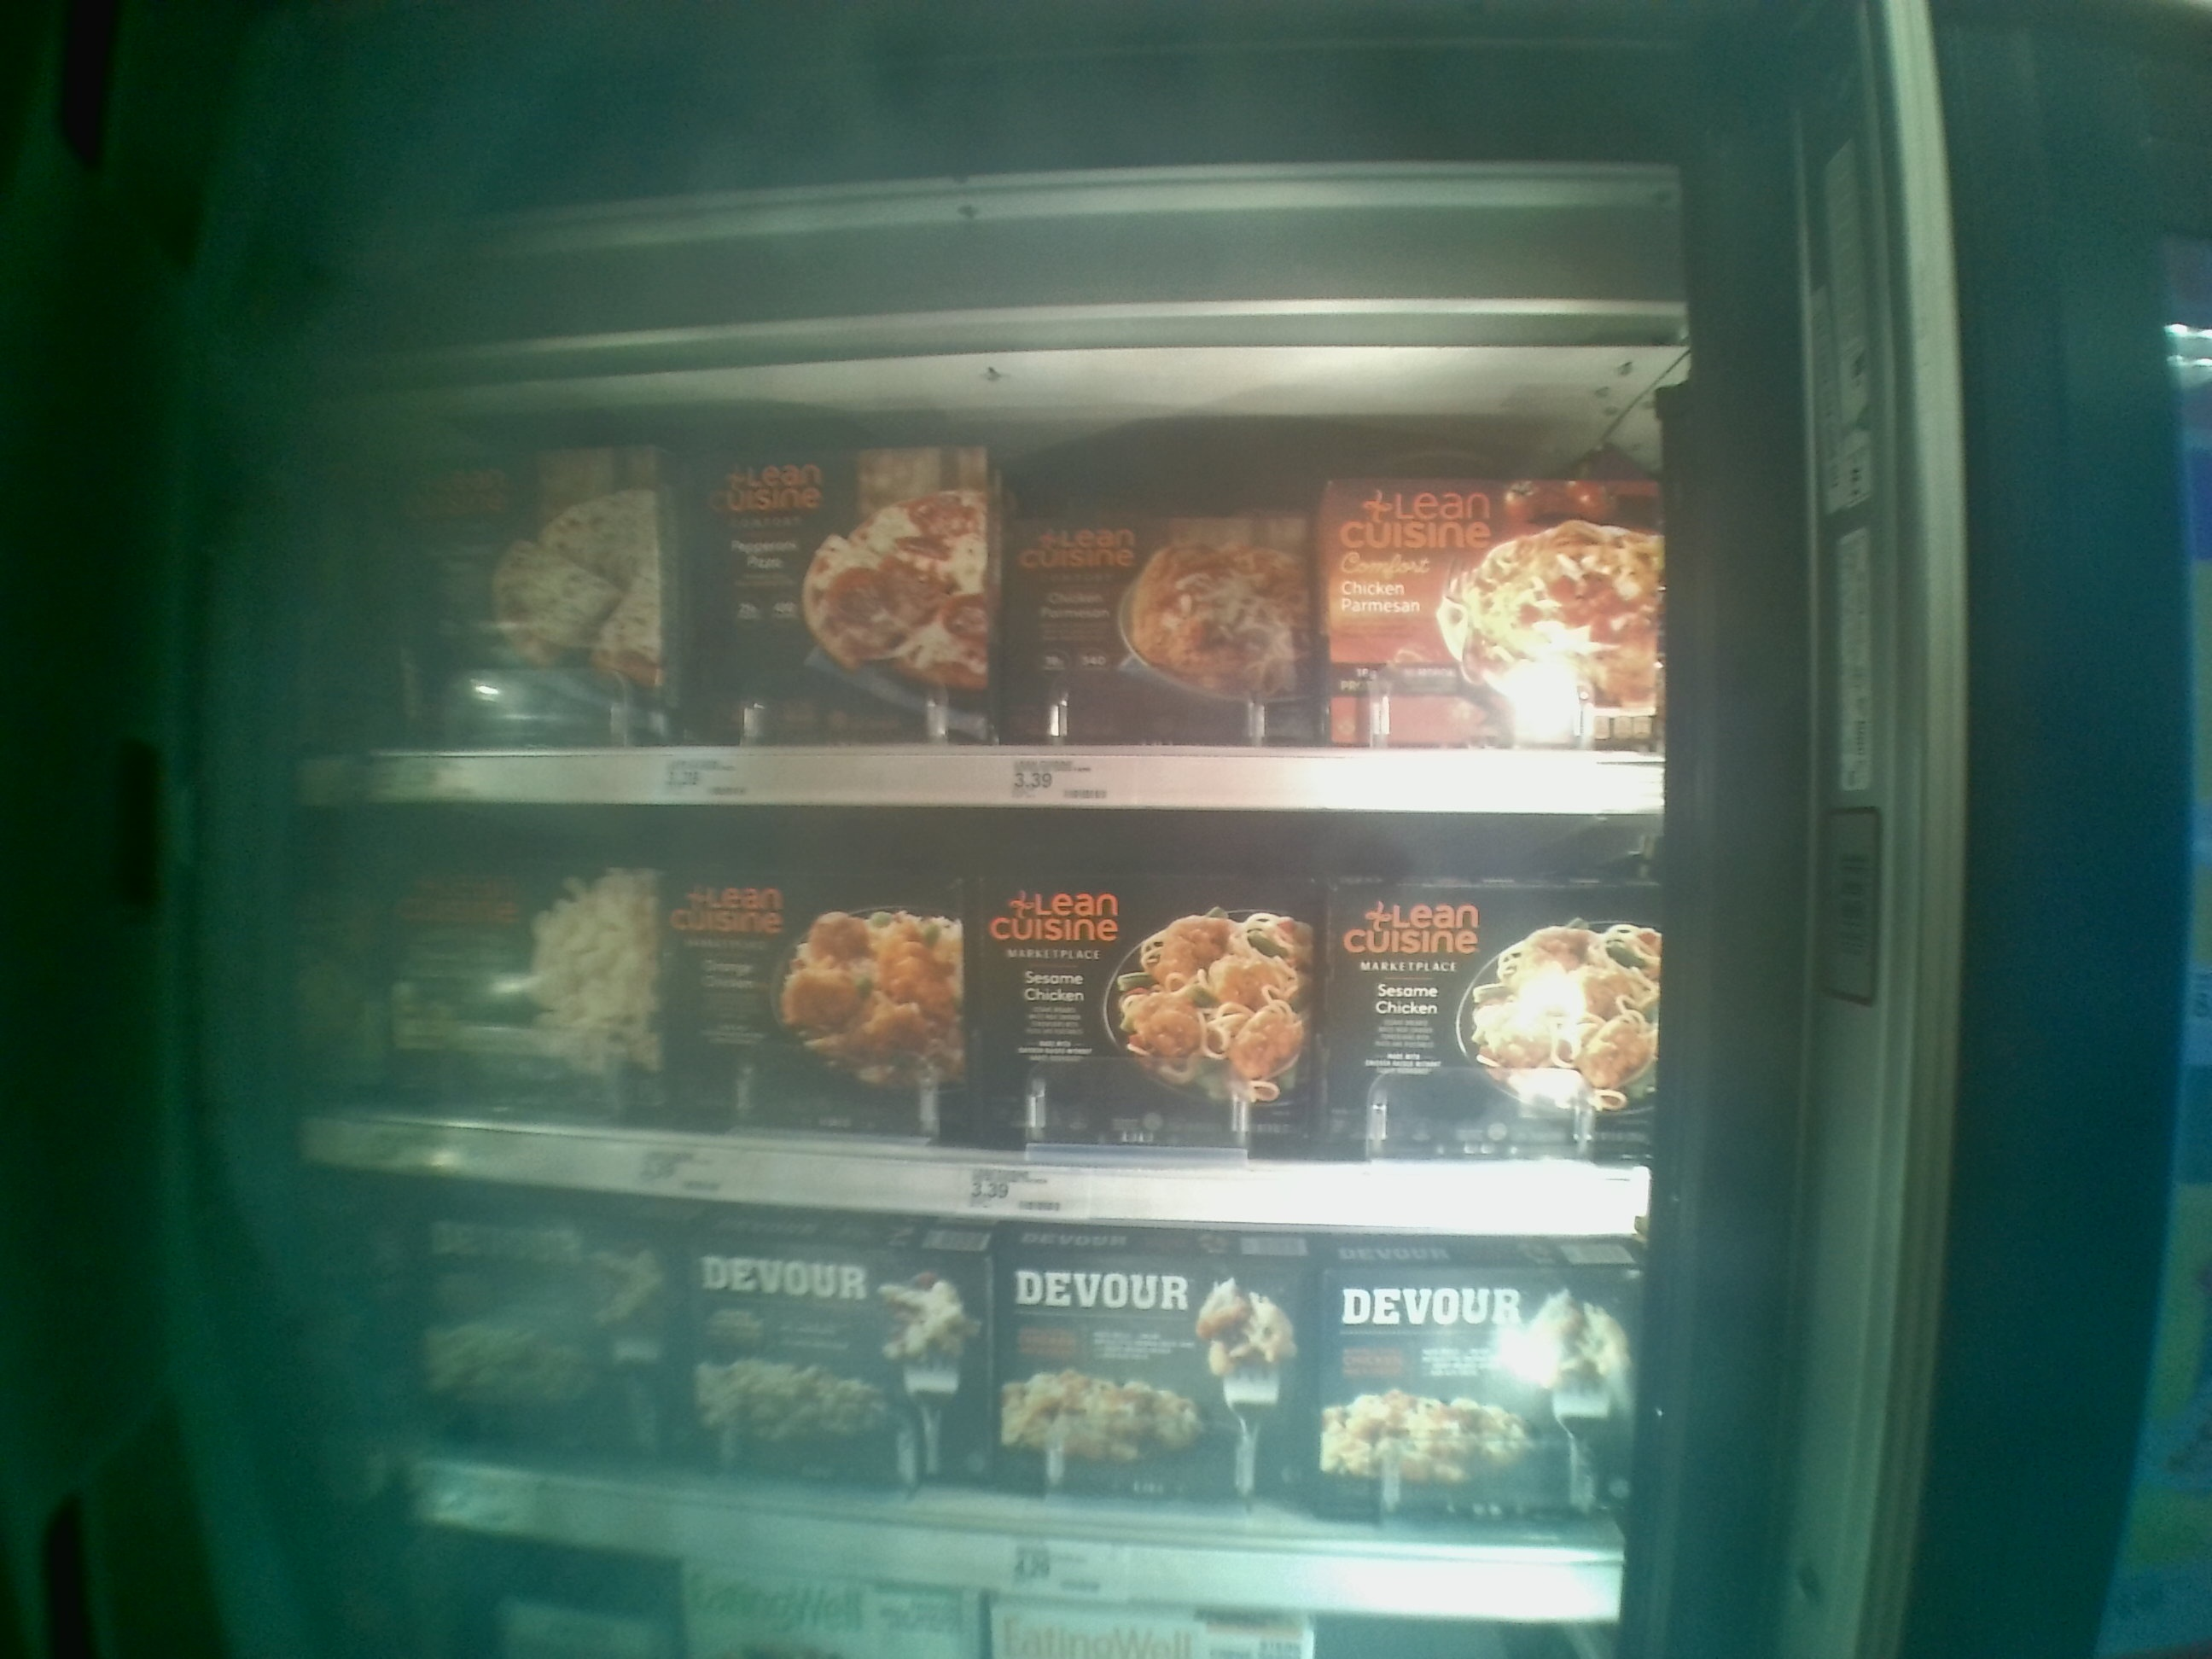pizza: (369, 430, 681, 732), (1325, 885, 1663, 1155), (697, 446, 988, 749), (977, 880, 1310, 1136), (1334, 476, 1662, 728), (1005, 1251, 1308, 1502), (671, 868, 967, 1124), (1329, 1281, 1632, 1523), (693, 1244, 984, 1492), (1012, 512, 1318, 734), (401, 857, 658, 1110), (425, 1211, 676, 1462)
